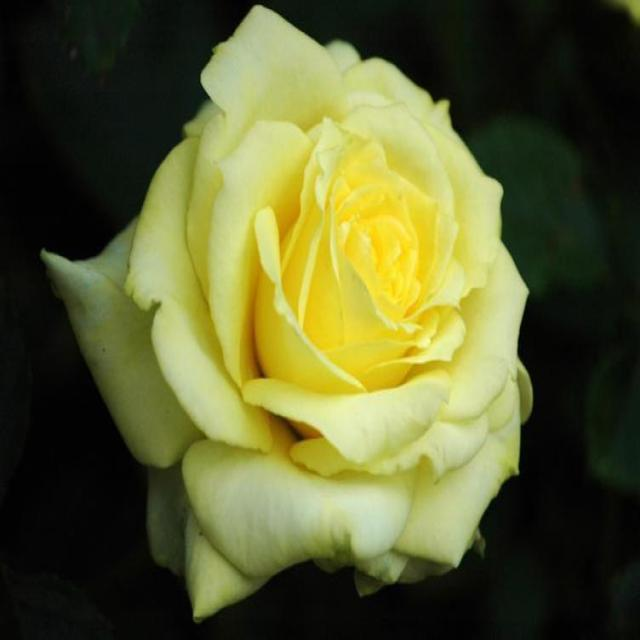rose: (127, 25, 548, 632)
